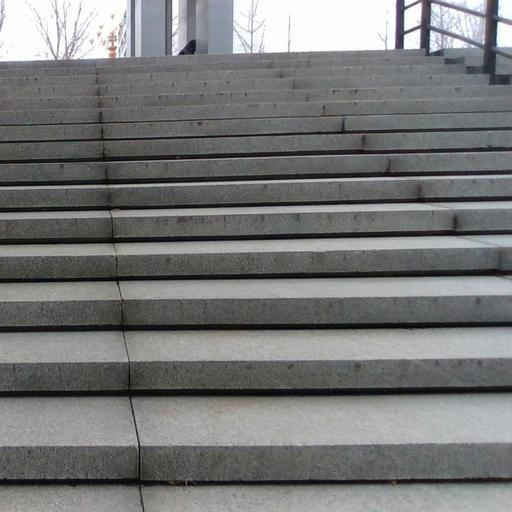stairs: (0, 51, 511, 511)
